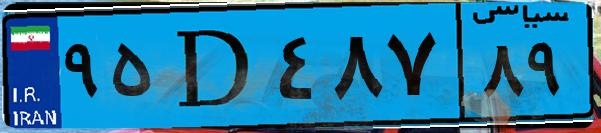4: (270, 28, 330, 110)
5: (110, 28, 158, 98)
7: (385, 28, 445, 110)
8: (330, 28, 385, 110), (475, 38, 525, 113)
9: (57, 26, 110, 100), (525, 38, 570, 115)
D: (158, 12, 270, 120)
